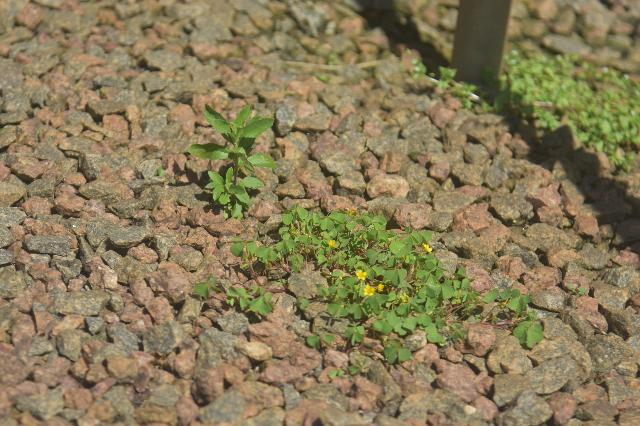MalezaMontesDelPlata: (311, 278, 438, 372), (187, 100, 279, 224), (438, 267, 547, 351), (280, 204, 387, 276), (189, 273, 277, 323), (389, 227, 439, 315), (230, 236, 277, 274)
